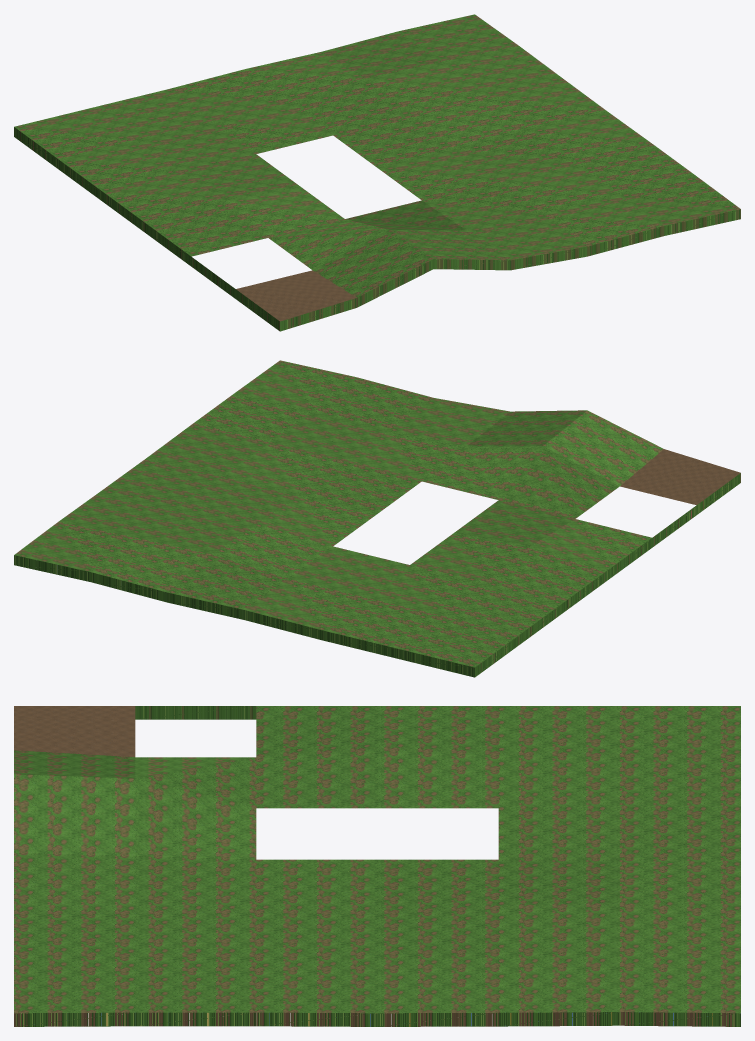
The model's file is rv_terrain_21_lod3.gltf.
The picture shows the model from 3 angles, top to bottom: view 1: azimuth 30°, elevation 25°; view 2: azimuth 150°, elevation 25°; view 3: azimuth 270°, elevation 25°; orthographic projection. The views are drawn at different scales.
Visible parts, largest first — view 1: RV_Terrain_21_lod3; view 2: RV_Terrain_21_lod3; view 3: RV_Terrain_21_lod3.
Part boxes in pixels (x1,y1,x2,y2): RV_Terrain_21_lod3: (14,14,740,331); RV_Terrain_21_lod3: (14,360,740,677); RV_Terrain_21_lod3: (14,706,740,1026).
Bounding box in the file's own units: 72 × 5.23 × 72.
3 materials, 2 textured.
